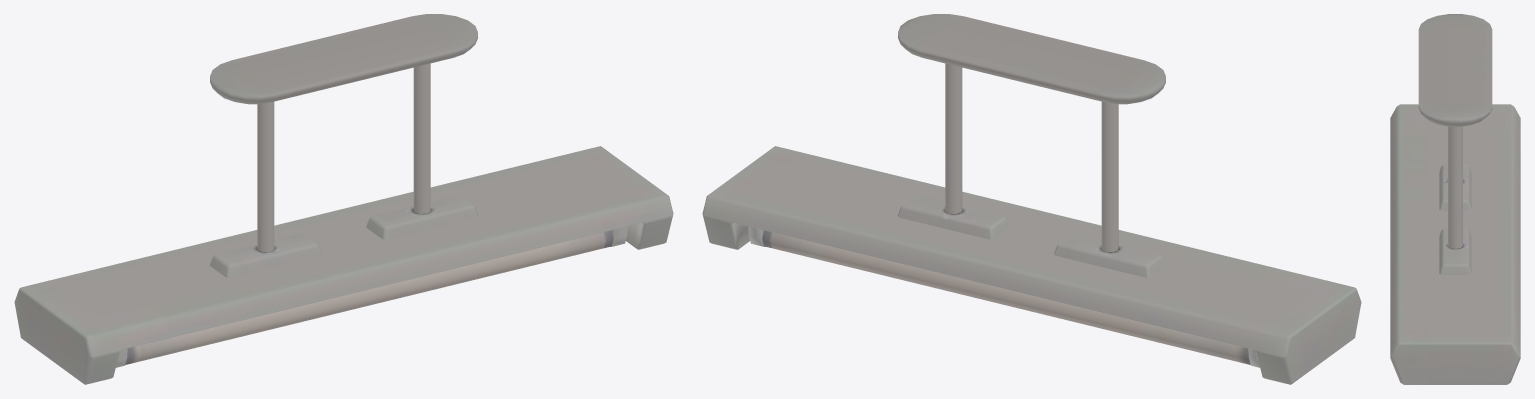
The picture shows the model from 3 angles, left to right: view 1: azimuth 30°, elevation 25°; view 2: azimuth 150°, elevation 25°; view 3: azimuth 270°, elevation 25°; orthographic projection. The views are drawn at different scales.
Size of the model in its own units: 15.68 by 6.1 by 3.61.
Materials: 1 (1 with a texture image).
